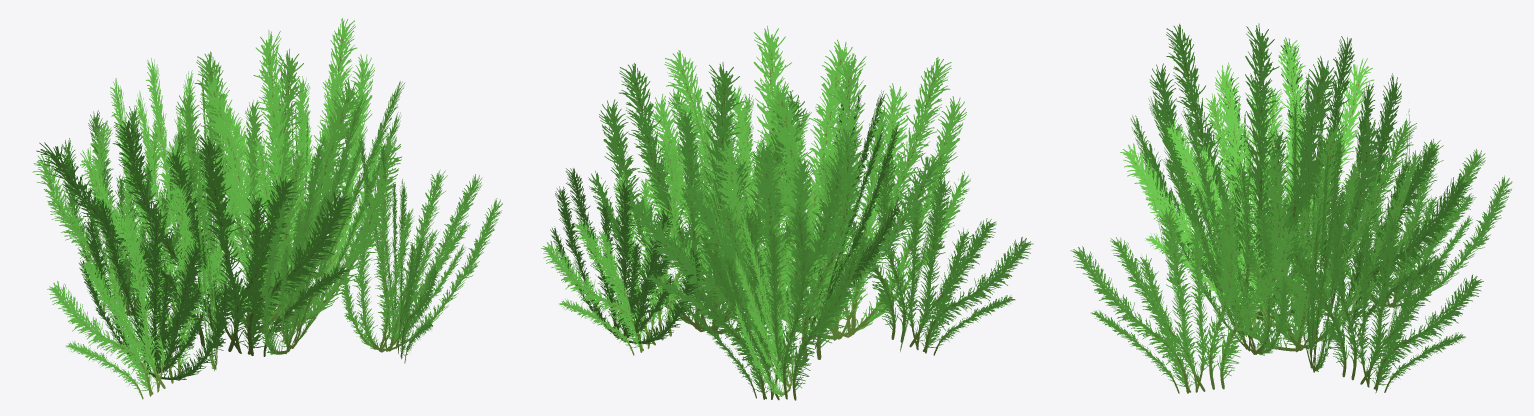
Rendered from Bush_01.fbx.
3 renders of one model, left to right at view 1: azimuth 30°, elevation 25°; view 2: azimuth 150°, elevation 25°; view 3: azimuth 270°, elevation 25°, orthographic. The views are drawn at different scales.
Parts seen in each view (by area): view 1: Bush_01; view 2: Bush_01; view 3: Bush_01.
Boxes of the visible parts, x1,y1,x2,y2 form: Bush_01: (32,18,502,399); Bush_01: (541,25,1033,400); Bush_01: (1070,23,1512,393).
Size of the model in its own units: 140 by 98.5 by 129.
